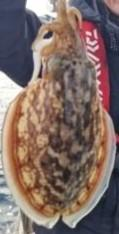Cephalopod: (2, 0, 116, 233)
